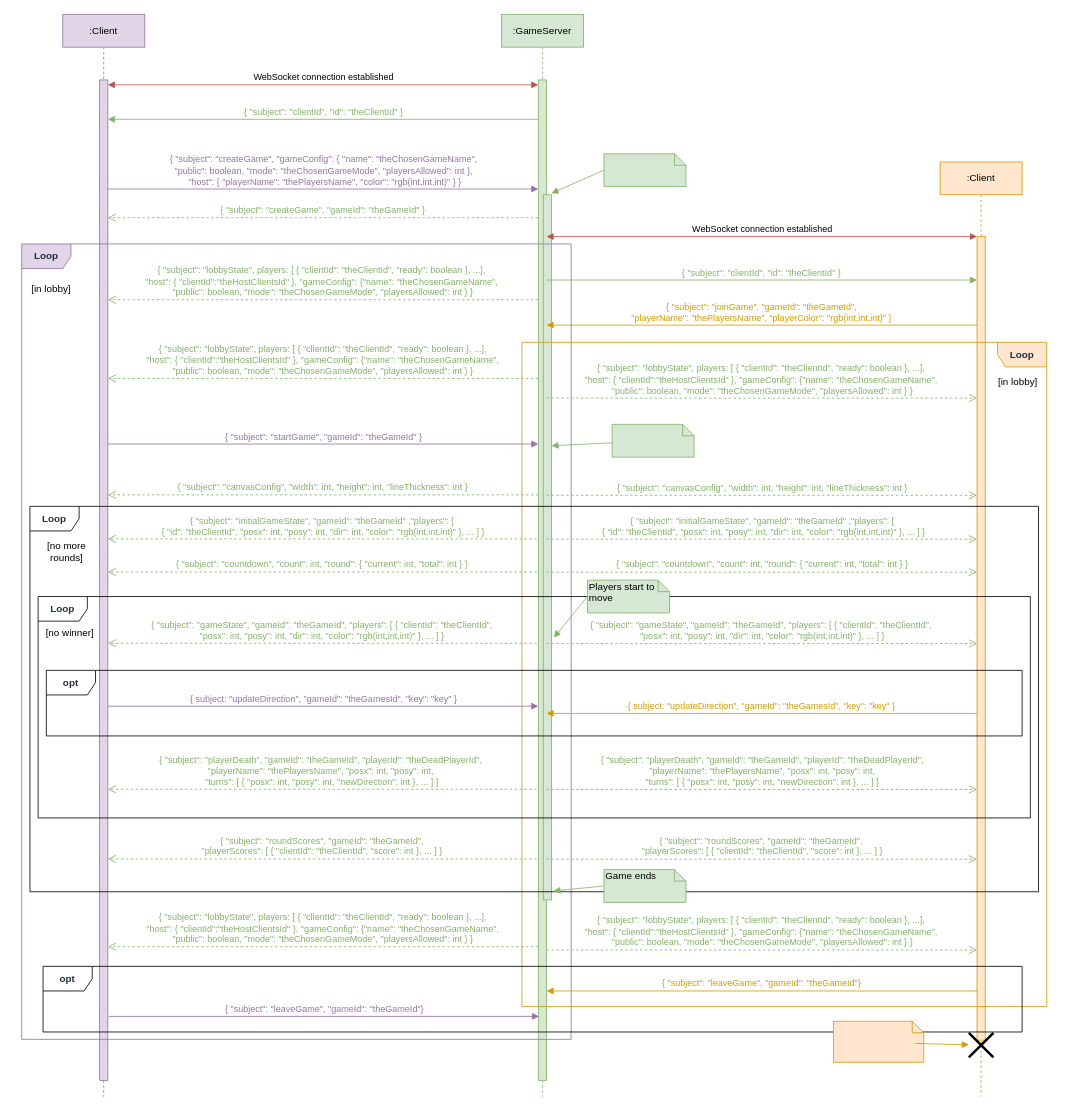
This 1068x1111 diagram has some shape labels left out. Here are the shapes that lost their labels. From the top down, the box of each, then its label:
(603, 153, 686, 187): New Game created
(611, 424, 694, 457): Start of game
(833, 1020, 924, 1062): Client closed Websocket connection
